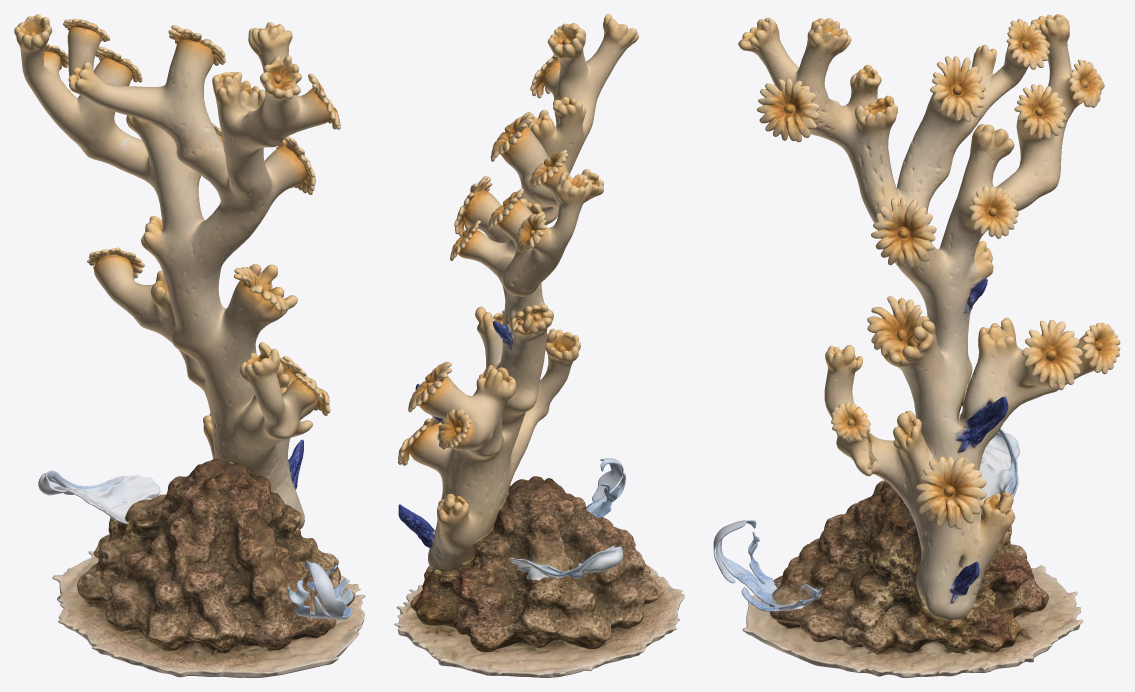
The picture shows the model from 3 angles, left to right: view 1: azimuth 30°, elevation 25°; view 2: azimuth 150°, elevation 25°; view 3: azimuth 270°, elevation 25°; orthographic projection. The views are drawn at different scales.
Bounding box in the file's own units: 0.4527 × 0.9999 × 0.6123.
1 material, 1 textured.
